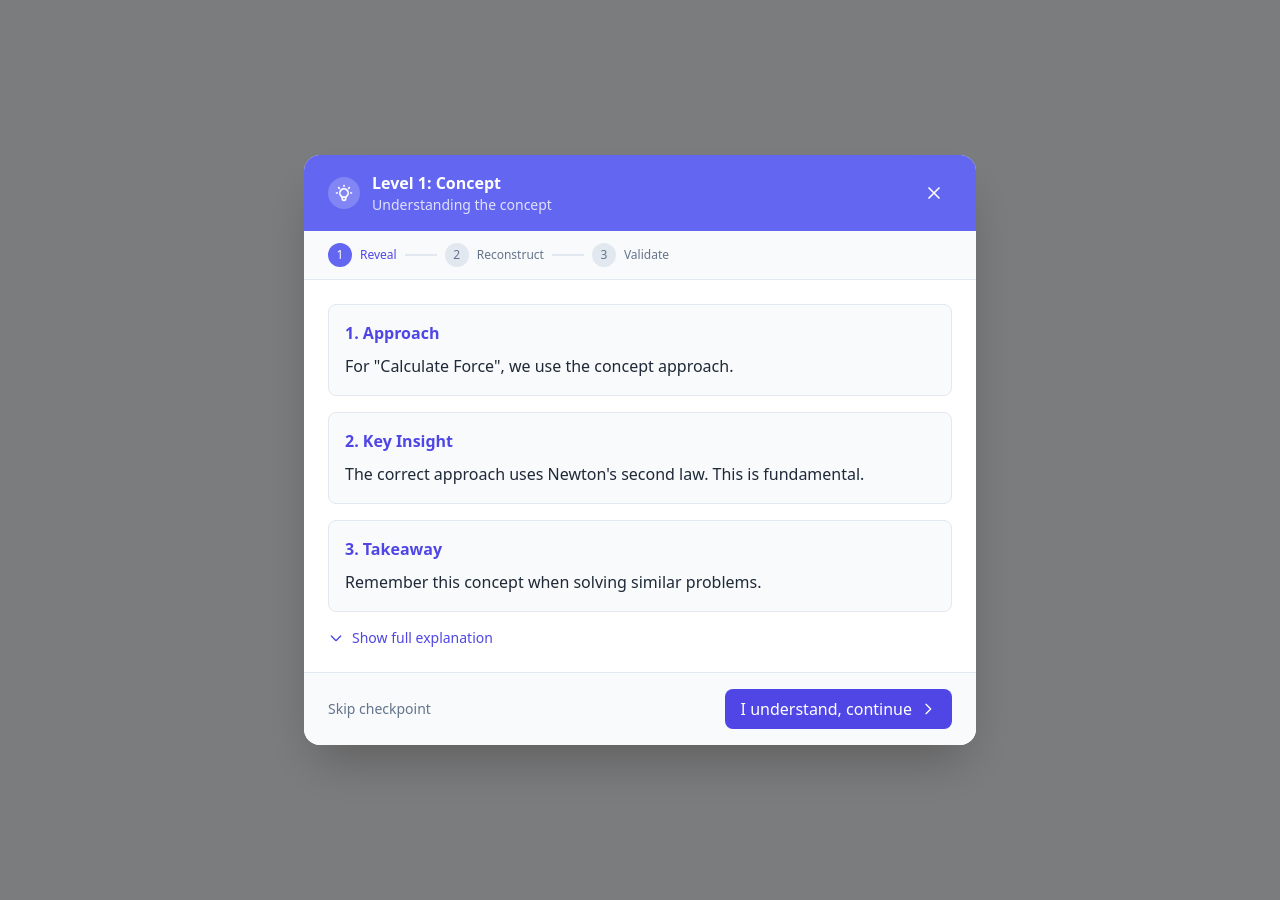
RevealReconstructValidate › Validate Stage - Correct Answer › shows solid understanding for correct answer
# Go through the flow
What coordinates should you click on to do the following:
click the button "I understand, continue"
I would click on:
 (838, 709)
Its box is [725, 689, 952, 729].
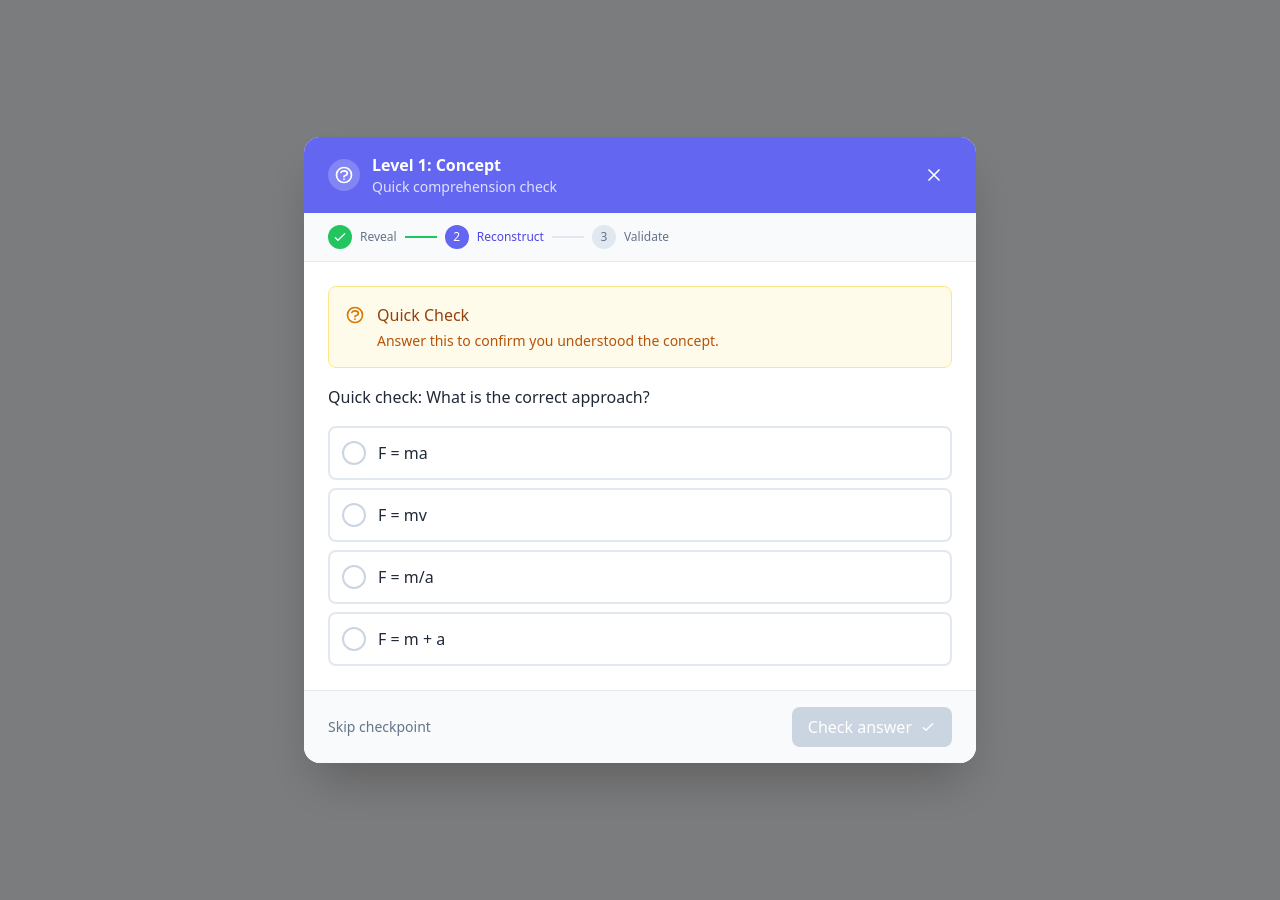
What coordinates should you click on to do the following:
click the button "F = ma"
I would click on:
 (403, 453)
Its box is [328, 426, 952, 480].
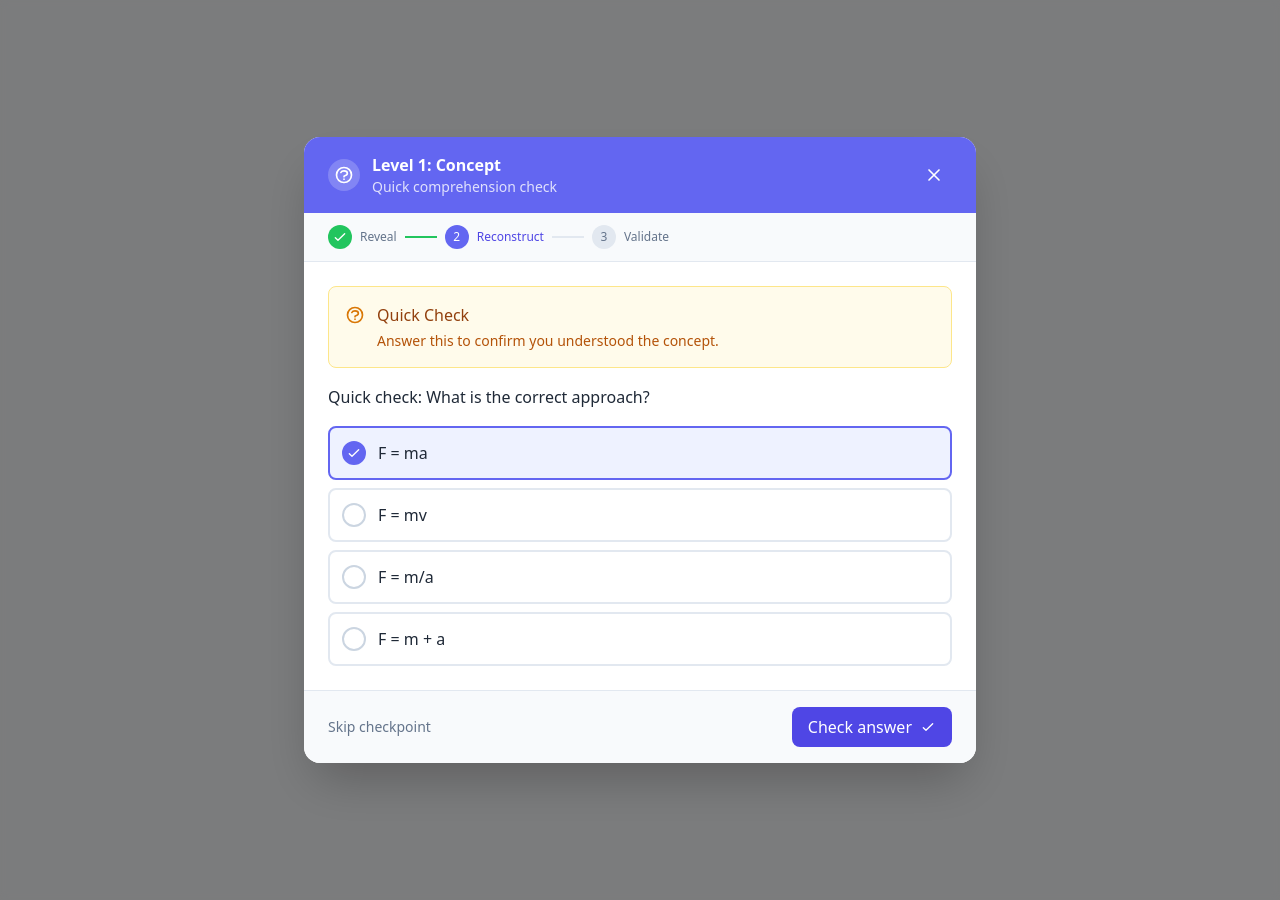
What coordinates should you click on to do the following:
click the button "Check answer"
I would click on:
 (872, 727)
Its box is [792, 707, 952, 747].
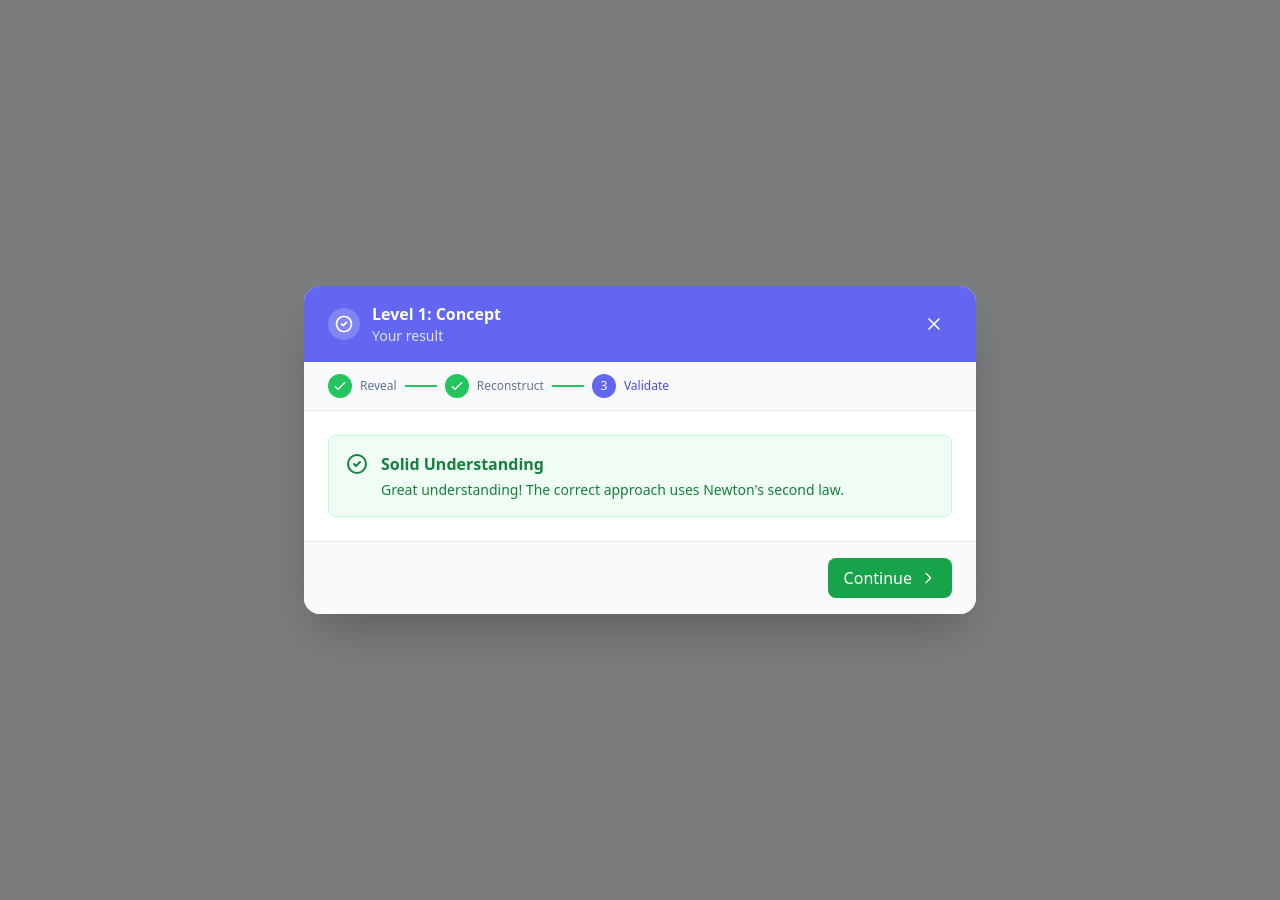
Now the text "Solid Understanding" is shown, box [381, 453, 544, 475]
Now the button "Continue" is shown, box [828, 558, 952, 598]
